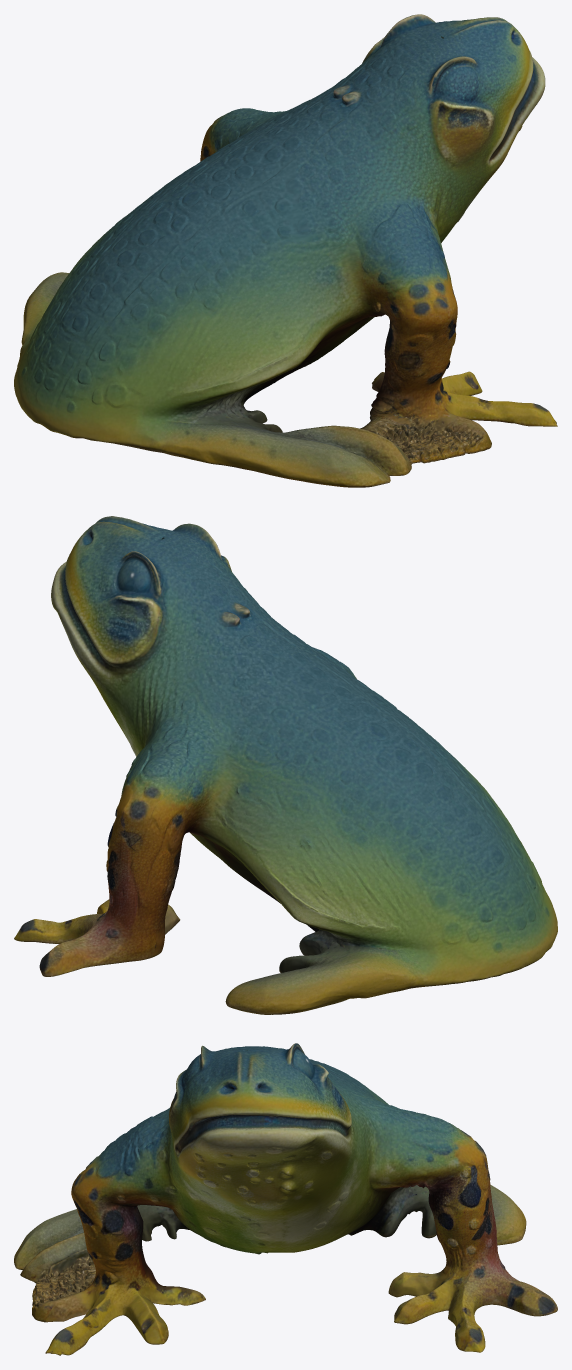
File: sapo.glb
The picture shows the model from 3 angles, top to bottom: view 1: azimuth 30°, elevation 25°; view 2: azimuth 150°, elevation 25°; view 3: azimuth 270°, elevation 25°; orthographic projection. The views are drawn at different scales.
Visible parts, largest first — view 1: tripo_node_d22a48b7-37b2-4885-9b7d-10ed1dfdafc8; view 2: tripo_node_d22a48b7-37b2-4885-9b7d-10ed1dfdafc8; view 3: tripo_node_d22a48b7-37b2-4885-9b7d-10ed1dfdafc8.
Part boxes in pixels (<box>): tripo_node_d22a48b7-37b2-4885-9b7d-10ed1dfdafc8: <box>14,14,557,487</box>; tripo_node_d22a48b7-37b2-4885-9b7d-10ed1dfdafc8: <box>14,516,557,1014</box>; tripo_node_d22a48b7-37b2-4885-9b7d-10ed1dfdafc8: <box>14,1043,557,1355</box>.
Bounding box in the file's own units: 0.9705 × 0.6216 × 1.
Materials: 1 (1 with a texture image).
